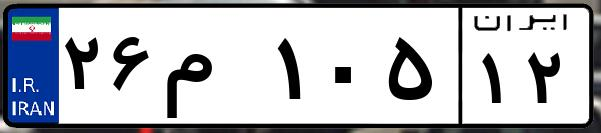0: (330, 28, 385, 110)
1: (270, 28, 330, 110), (475, 38, 525, 113)
2: (57, 26, 110, 100), (525, 38, 570, 115)
5: (385, 28, 445, 110)
6: (110, 28, 158, 98)
م: (158, 20, 270, 120)
